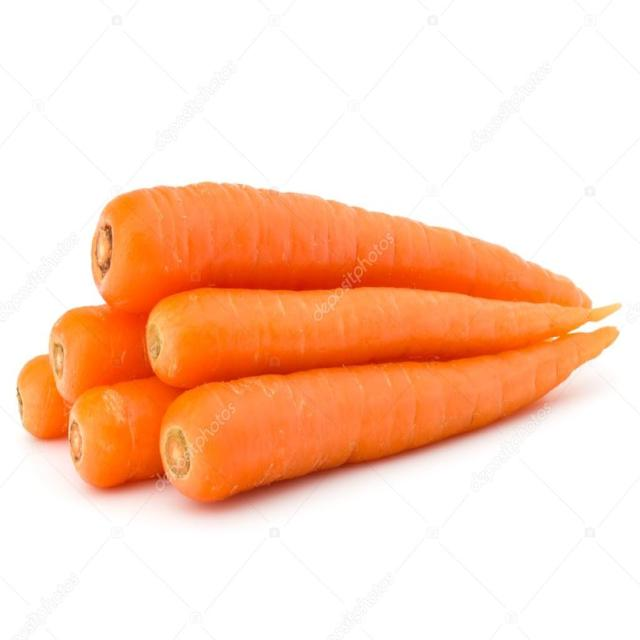Carrot: (141, 282, 615, 381)
